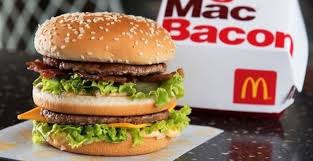mcdonalds: (240, 76, 273, 100)
